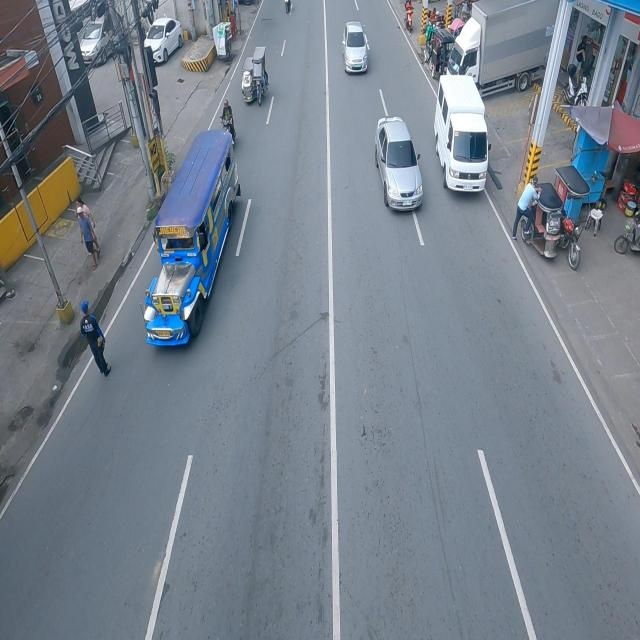Motorcycle: (221, 97, 235, 142)
Van: (435, 71, 490, 199)
